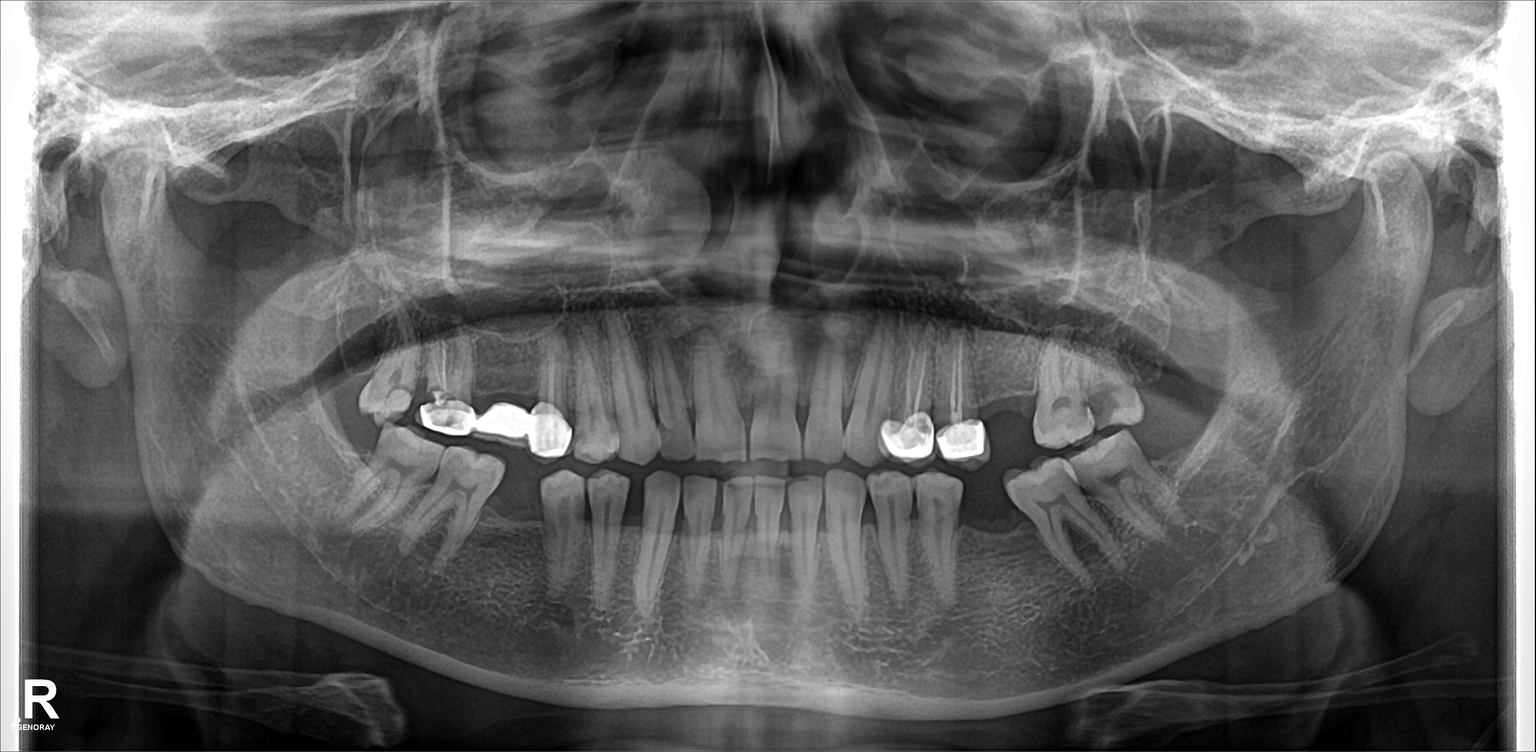Endodontically Treated Tooth: (888, 337, 933, 463), (525, 356, 575, 460), (944, 339, 980, 456), (428, 344, 469, 434)
Missing Tooth: (985, 337, 1037, 448), (968, 484, 1009, 563), (328, 421, 374, 489), (1134, 309, 1180, 375), (497, 469, 529, 563), (1153, 415, 1202, 474), (330, 329, 362, 413)
